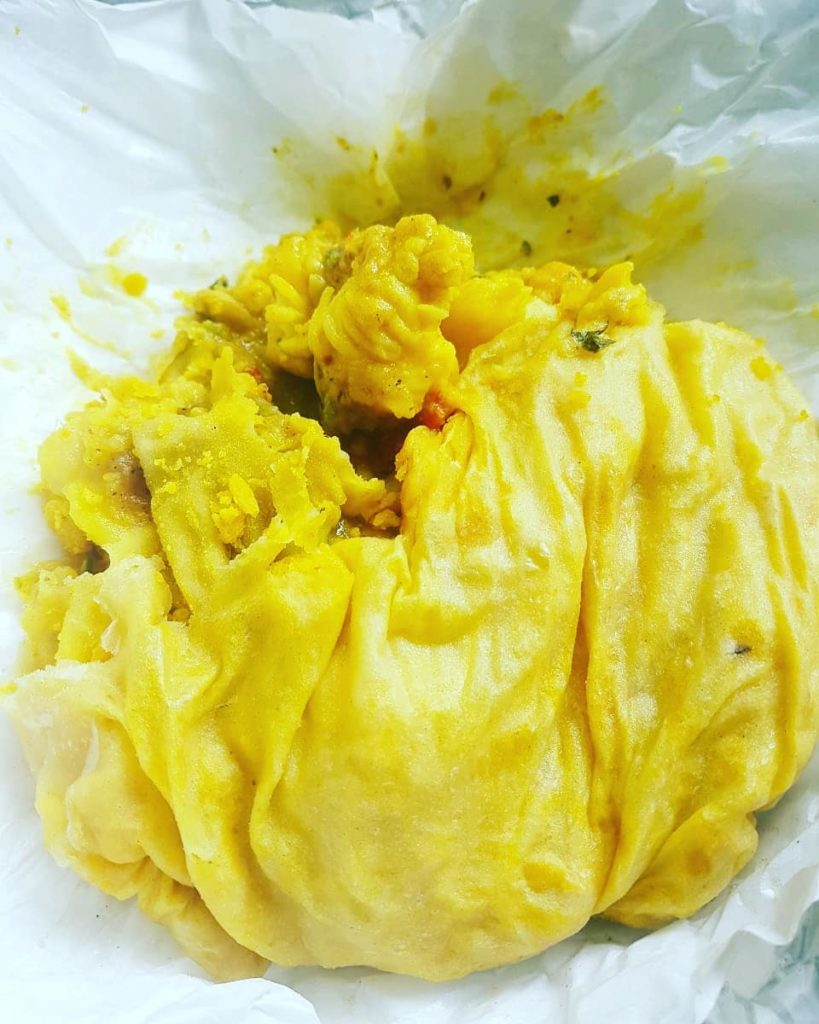Farata: (31, 161, 788, 946)
